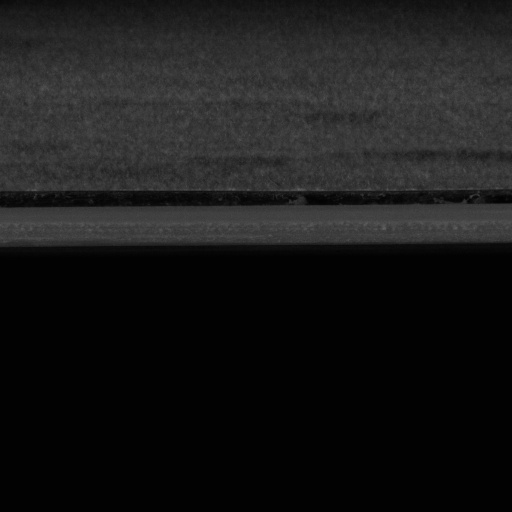kaijiao: (0, 186, 511, 249)
